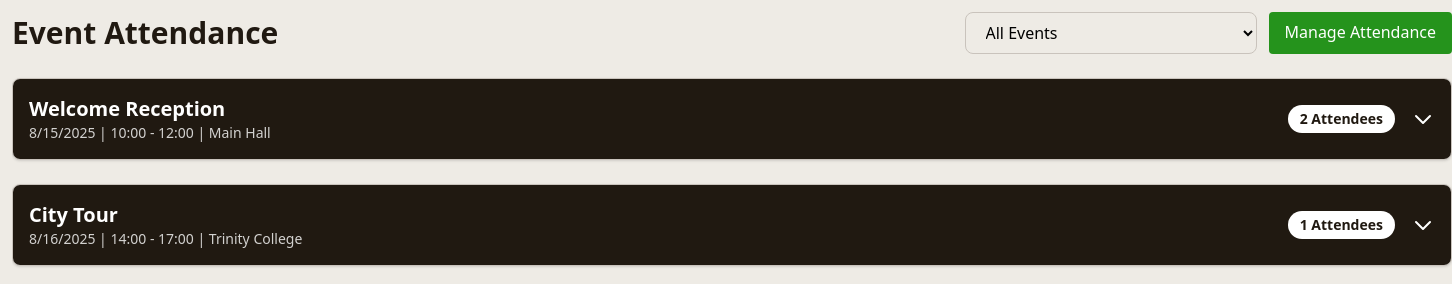
it: Admin Event Attendance Page › should filter events by selection
expect the heading "Welcome Reception" is shown: met, box [29,95,225,122]
expect the heading "City Tour" is shown: met, box [29,201,118,228]
Select "Welcome Reception (8/15/2025)" in the dropdown showing "All Events": (1110, 33) [964,12,1256,54]
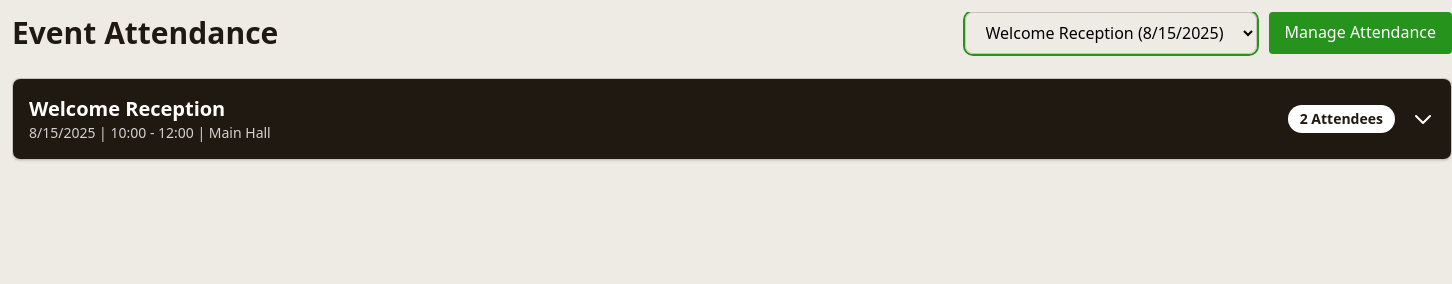
expect the heading "Welcome Reception" is shown: met, box [29,95,225,122]
expect the button "City Tour" is gone: met
